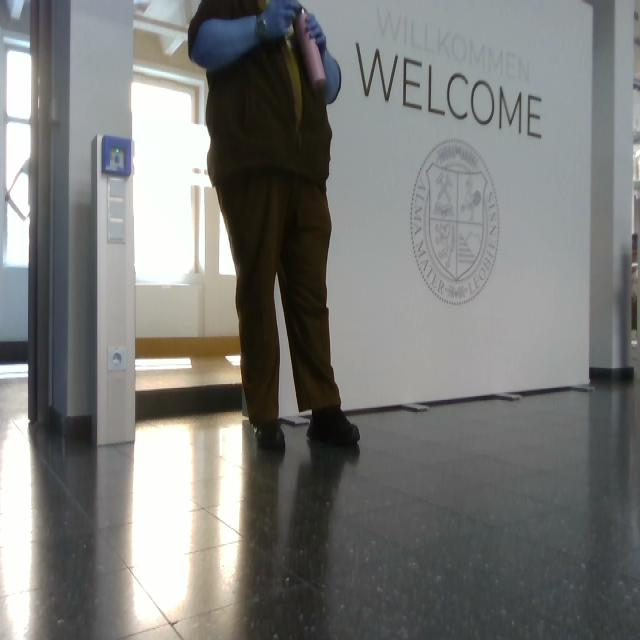door: (94, 135, 137, 447)
light bulb: (261, 1, 328, 90), (293, 4, 328, 90), (225, 355, 242, 367)
person: (188, 1, 361, 453)
pillar: (30, 1, 138, 446)
tiled floor: (2, 367, 639, 639)
